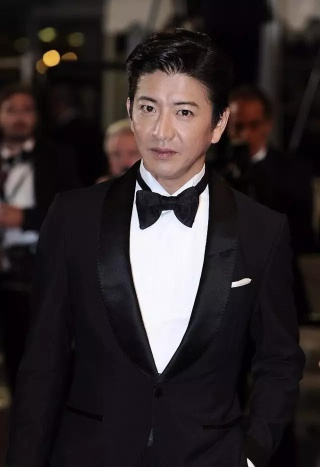male: (117, 26, 241, 190)
